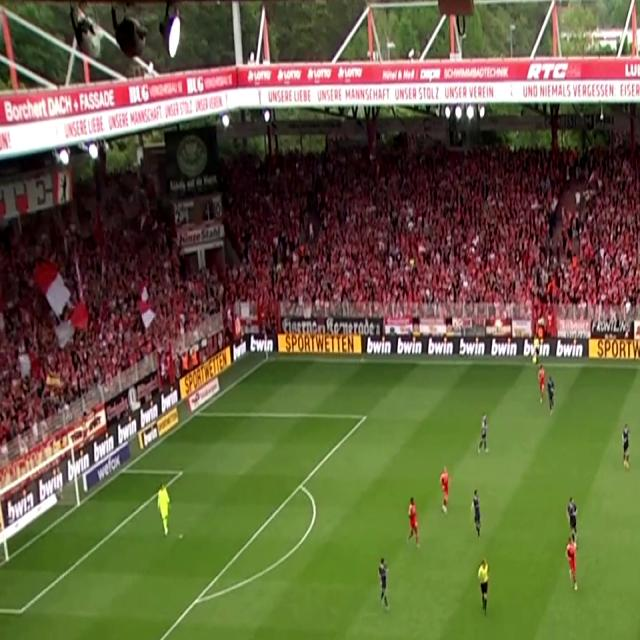referee: (474, 556, 497, 620)
soccer-player: (561, 530, 585, 596), (152, 476, 174, 542), (371, 555, 393, 616), (468, 485, 491, 540), (404, 497, 426, 554), (618, 419, 638, 473), (434, 466, 454, 519), (475, 409, 495, 459), (562, 493, 583, 539), (537, 360, 546, 414), (546, 370, 557, 414)
